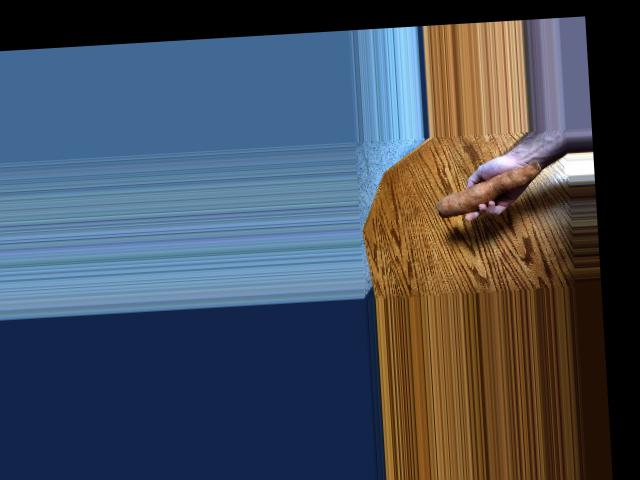sweet_potato: (432, 158, 545, 220)
